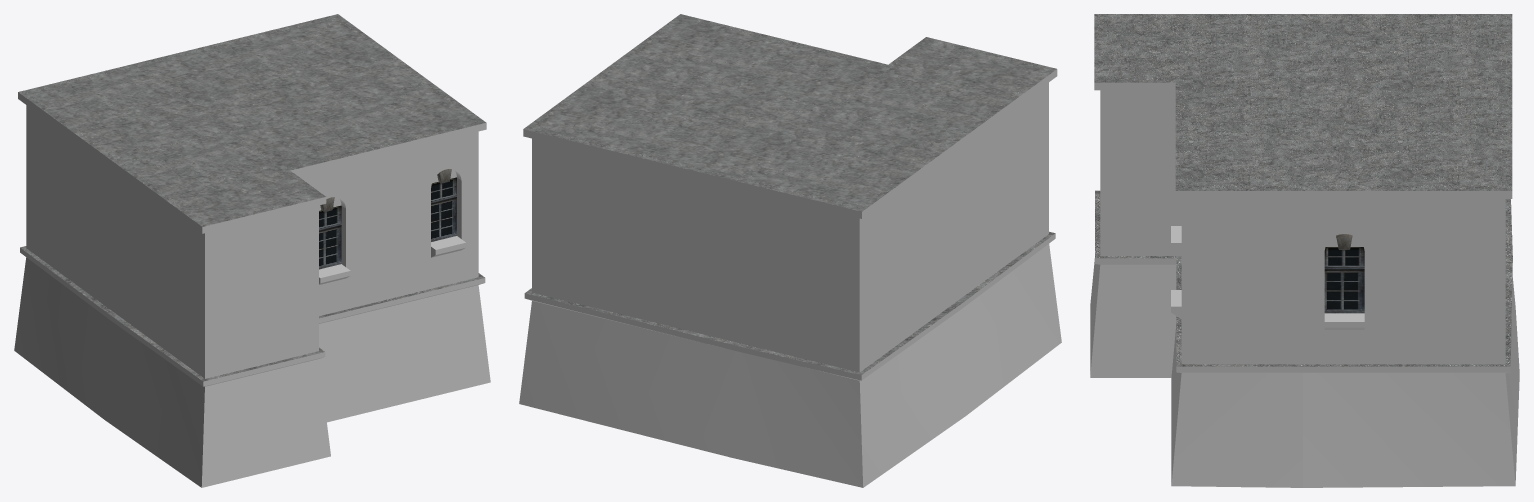
Rendered from Building_Base_05.fbx.
3 renders of one model, left to right at view 1: azimuth 30°, elevation 25°; view 2: azimuth 150°, elevation 25°; view 3: azimuth 270°, elevation 25°, orthographic. The views are drawn at different scales.
Parts seen in each view (by area): view 1: Building_Base_05; view 2: Building_Base_05; view 3: Building_Base_05.
Boxes of the visible parts, x1,y1,x2,y2 form: Building_Base_05: (14,14,490,487); Building_Base_05: (519,14,1061,487); Building_Base_05: (1090,14,1519,487).
Size of the model in its own units: 535 by 400 by 530.
